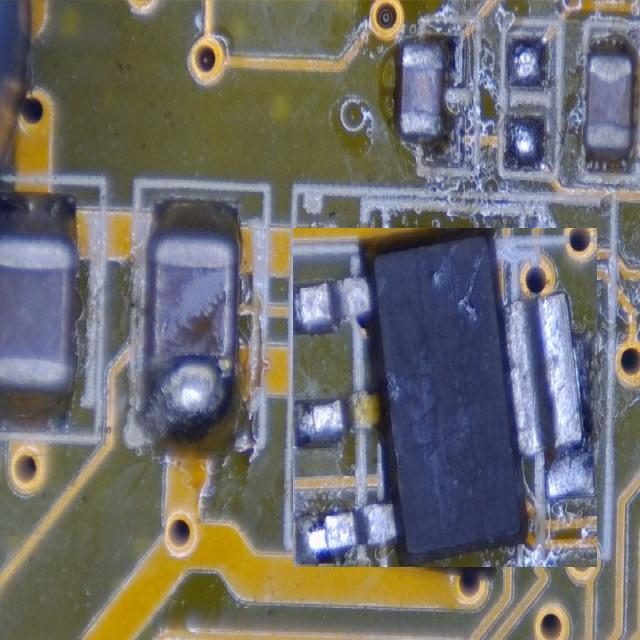Incorrect_installation: (294, 229, 596, 567)
